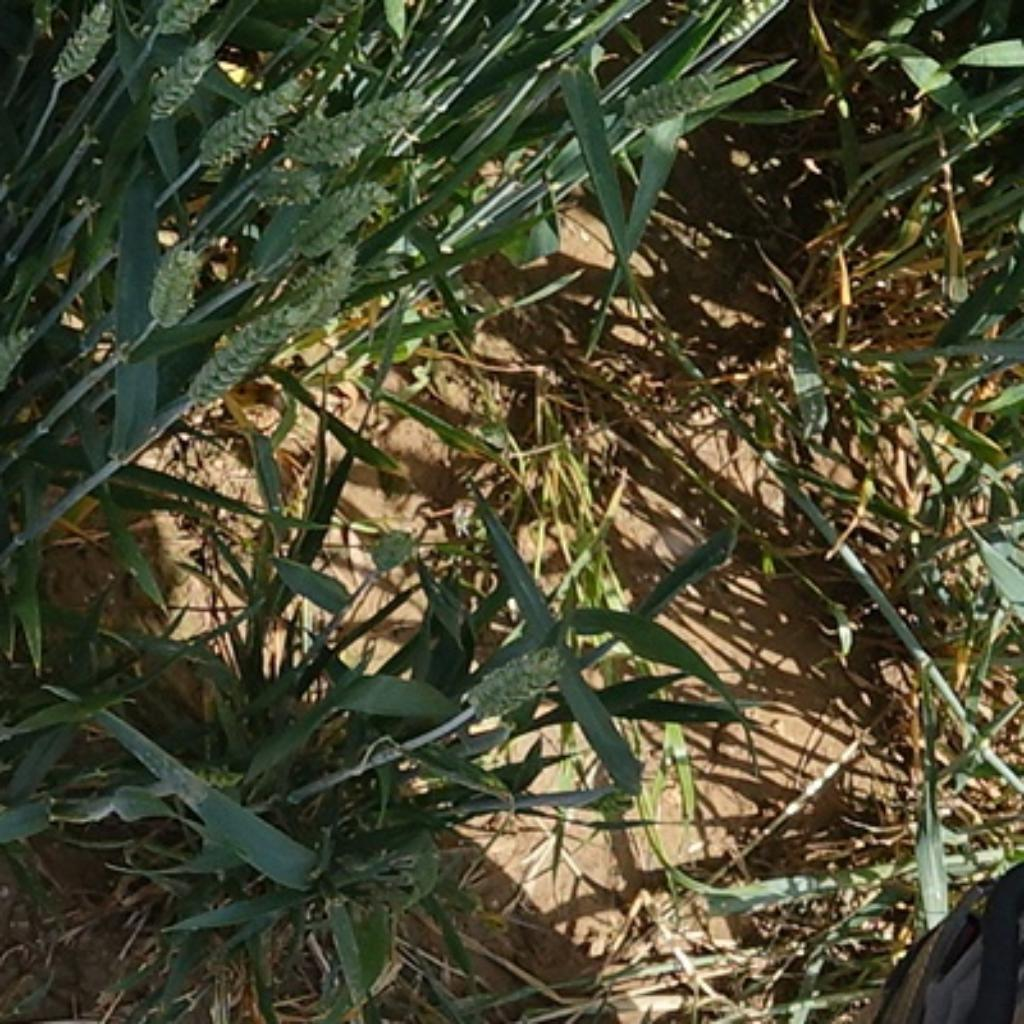0-0: (276, 66, 440, 176), (171, 309, 302, 401), (465, 638, 581, 732), (189, 71, 299, 163), (606, 58, 737, 133), (135, 230, 209, 327), (291, 245, 360, 337), (140, 35, 220, 112), (291, 189, 391, 250), (40, 5, 112, 89), (0, 312, 46, 412), (702, 1, 796, 37), (148, 2, 220, 38), (180, 766, 259, 797), (364, 528, 418, 572)
